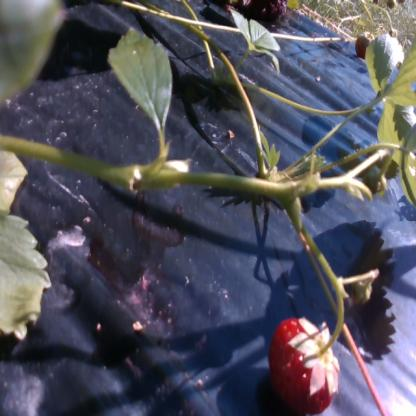ripe: (268, 320, 342, 416), (356, 32, 374, 57)
